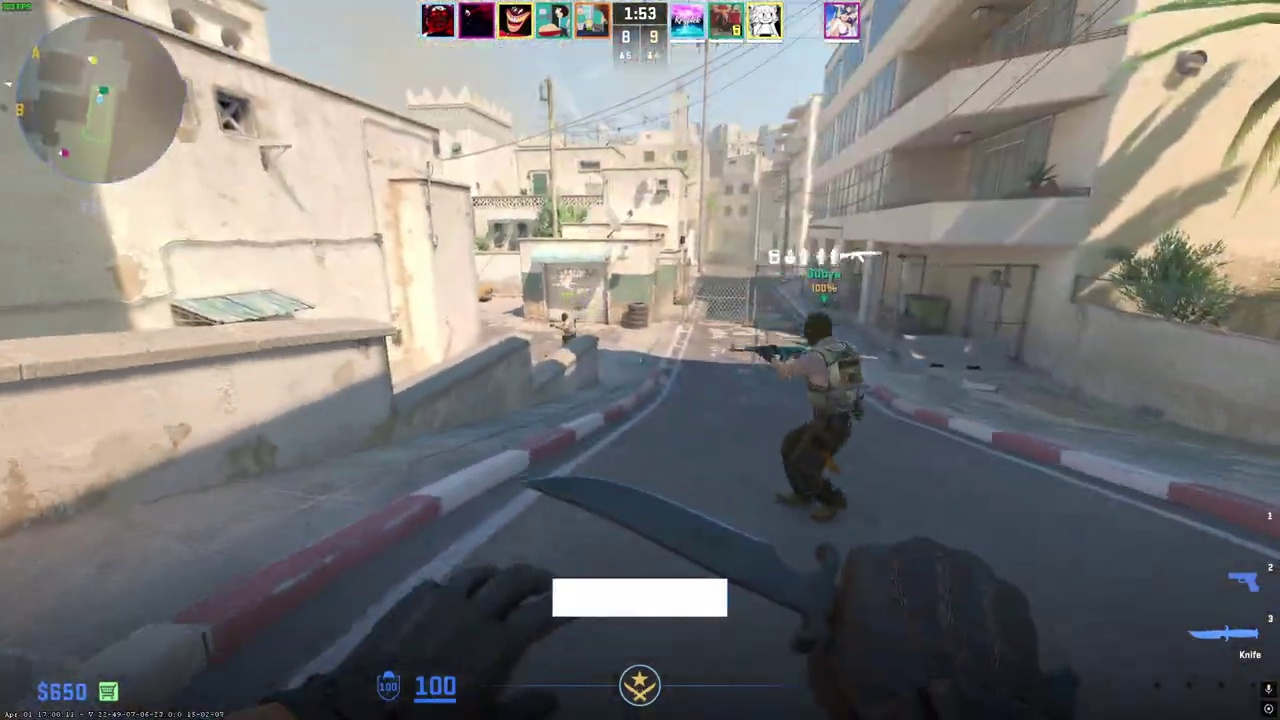Terrorist: (778, 311, 860, 522), (559, 313, 576, 345)
